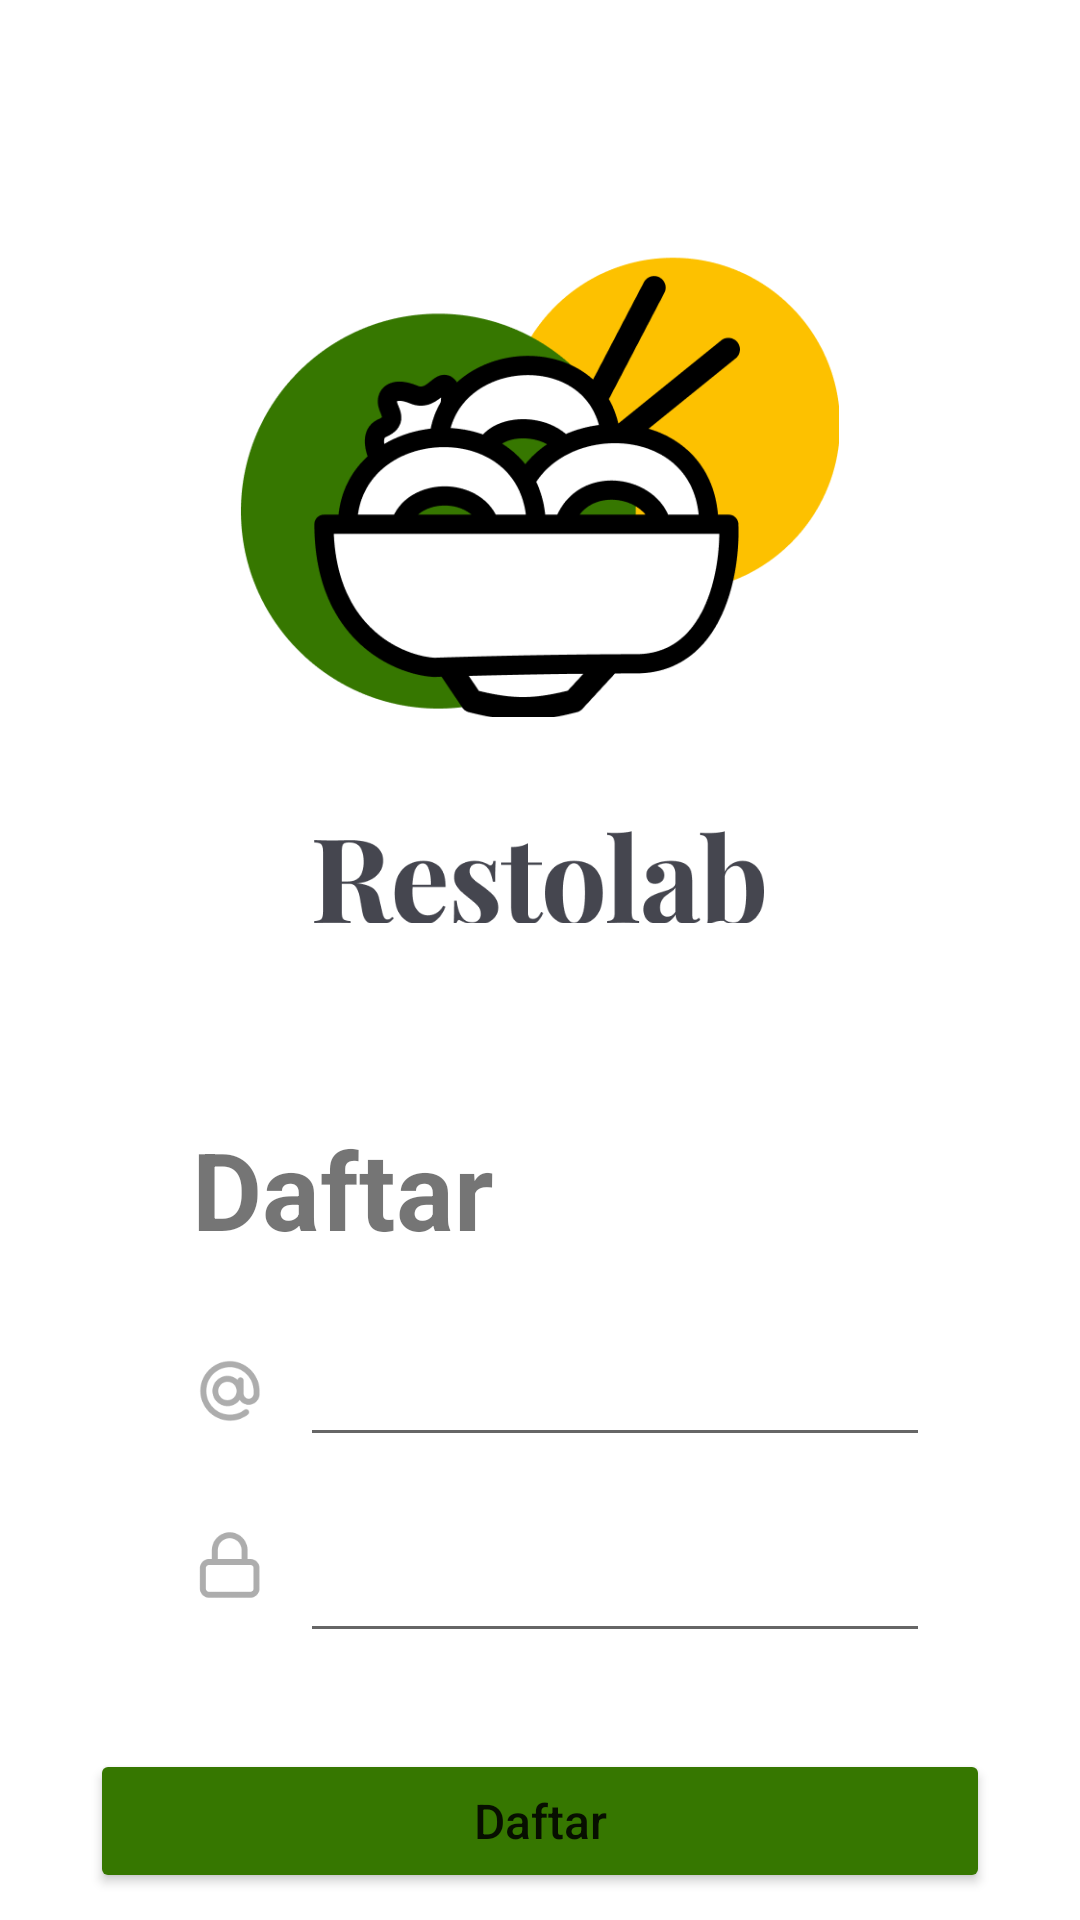

Where icons sit on this 1080px x 1920px app screen, as [x1,y1,x2,y2]:
email: [200,1361,260,1421]
password: [200,1532,260,1598]
